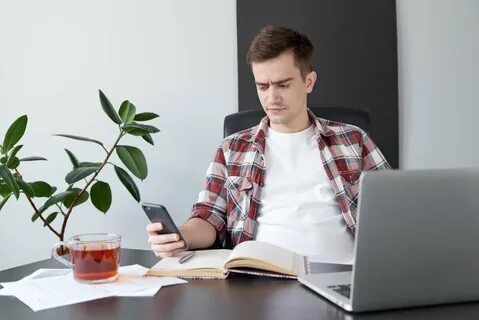awake: (181, 24, 370, 255)
